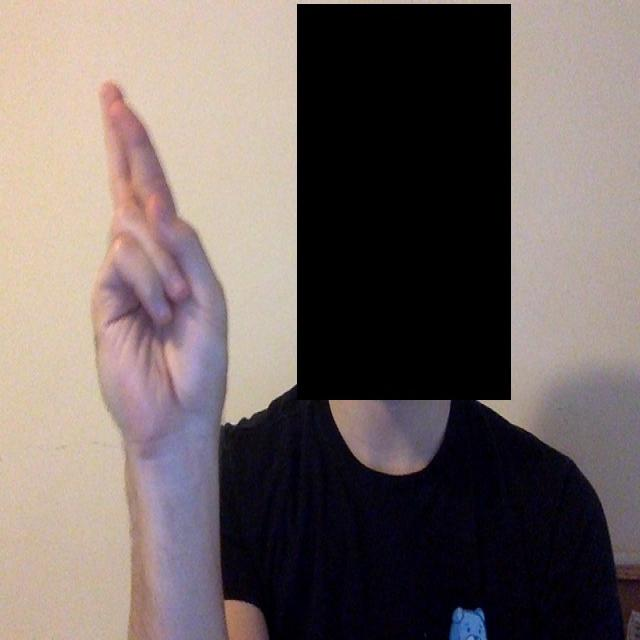R: (77, 48, 244, 459)
